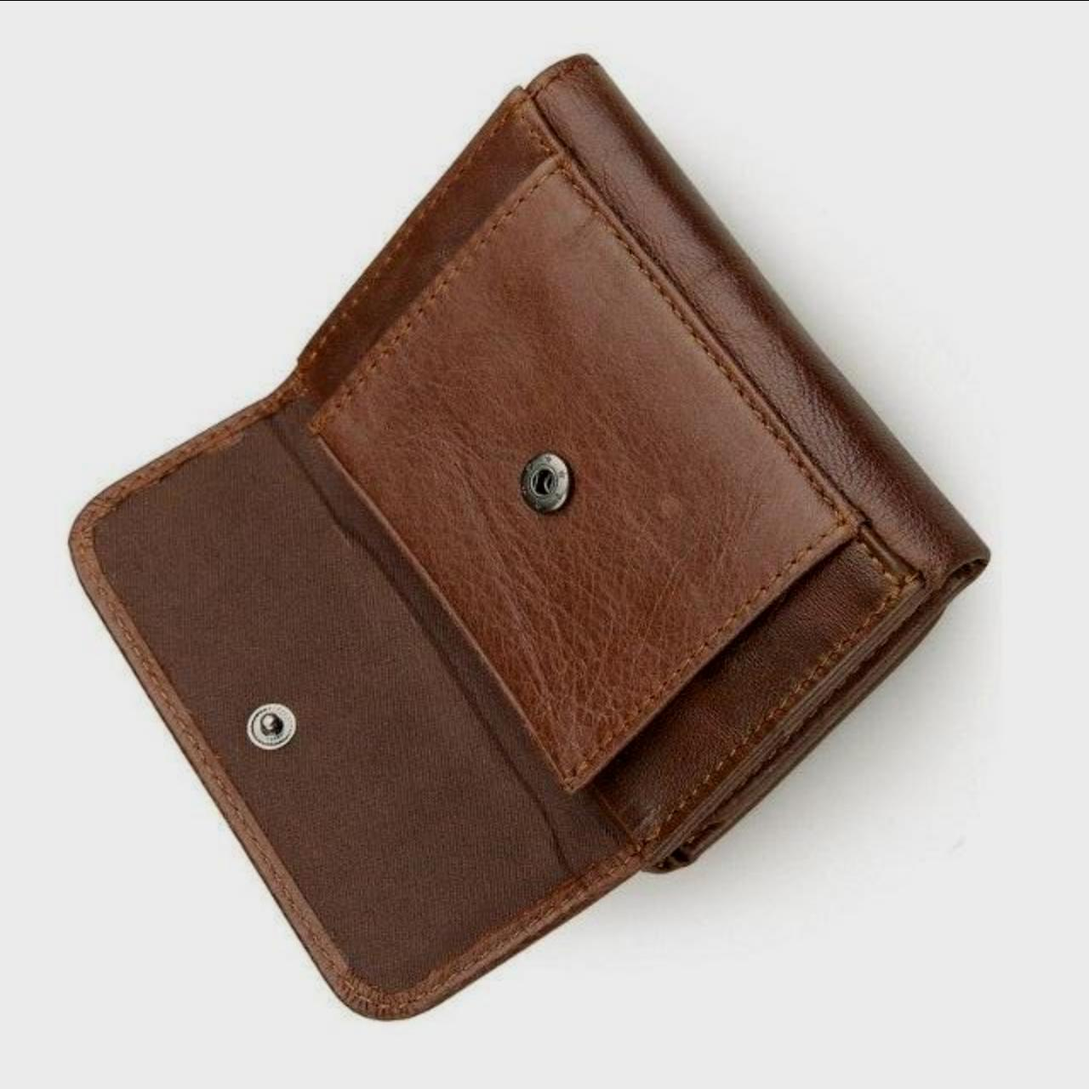wallet: (66, 41, 999, 1036)
